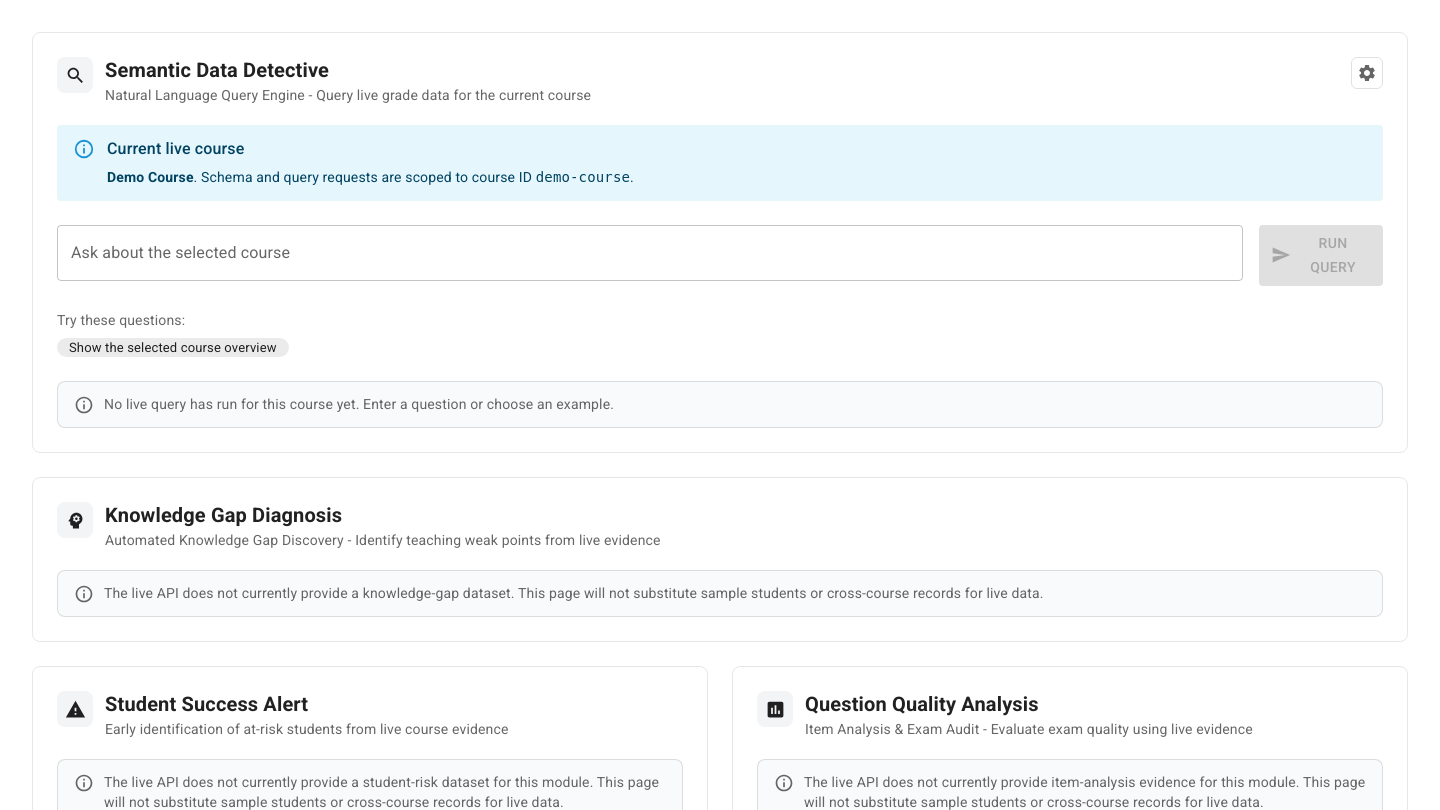
AI Analytics live request states › clears an older live result when a 403 course-scope failure arrives
Type "First query" into the field labelled "Ask about the selected course" at (650, 253), box [57, 225, 1243, 281]
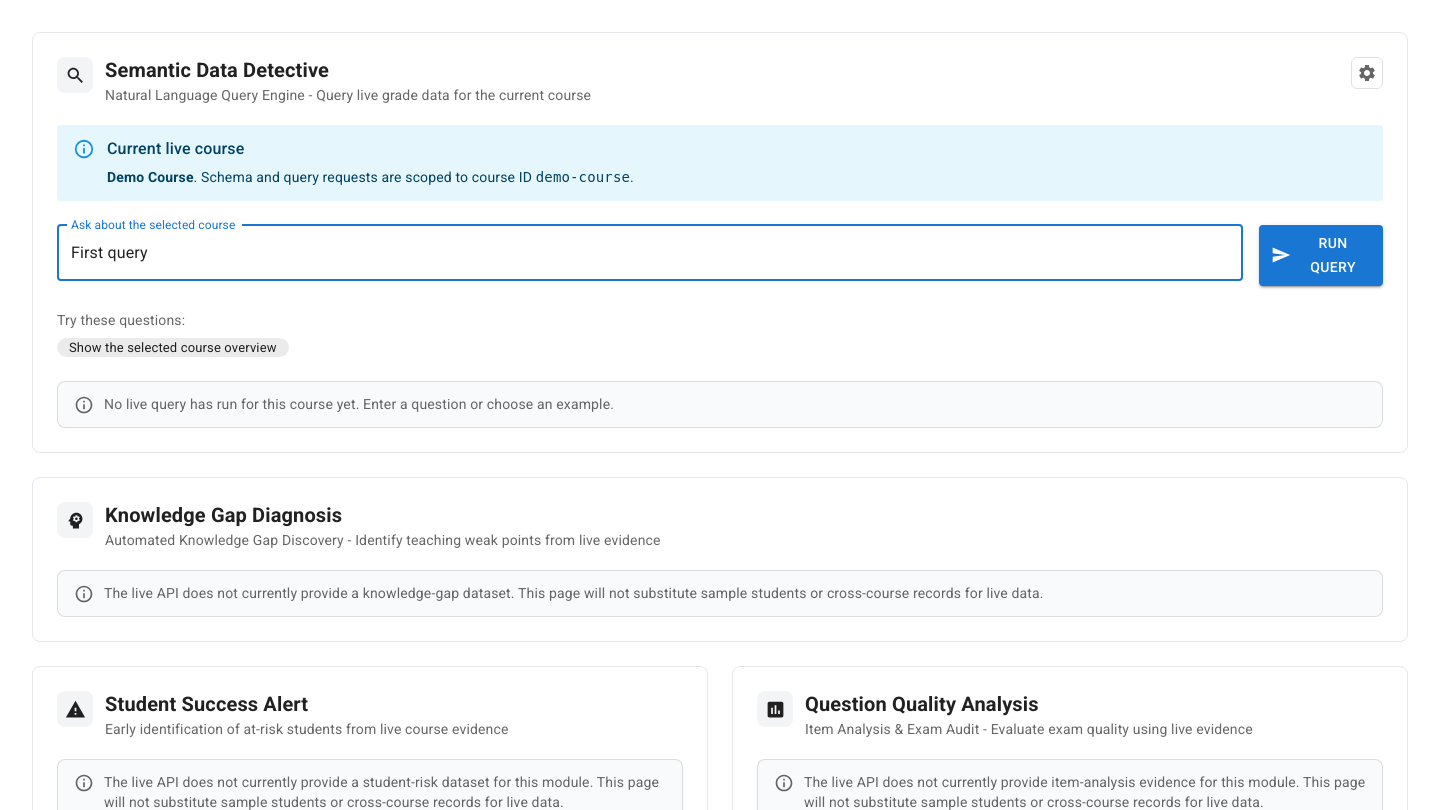
Click the button "Run query" at (1321, 255), box [1259, 225, 1383, 286]
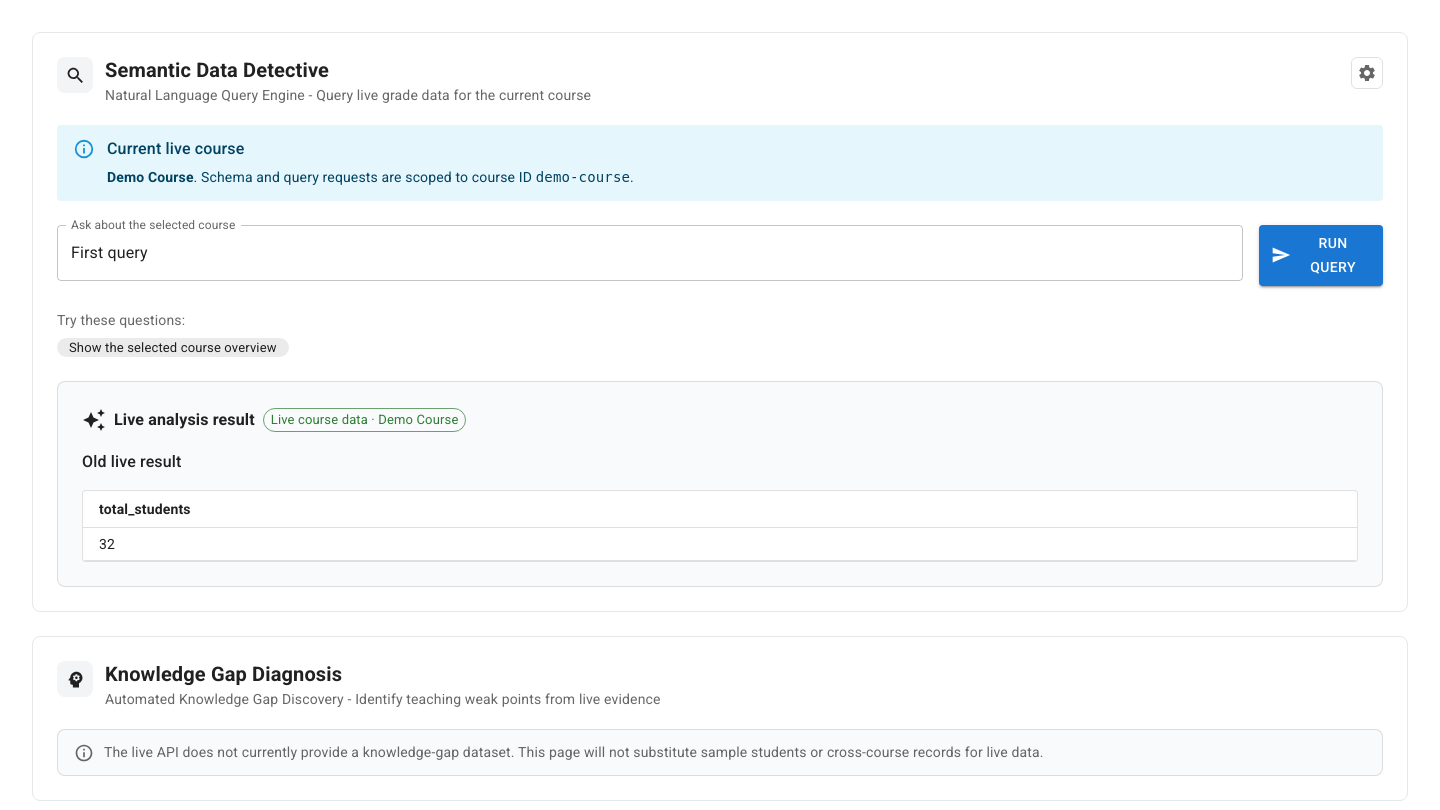
Expected: the text "Old live result" is shown, [82, 452, 182, 471]
Replace the text in the field labelled "Ask about the selected course" with "Forbidden query" at (650, 253), box [57, 225, 1243, 281]
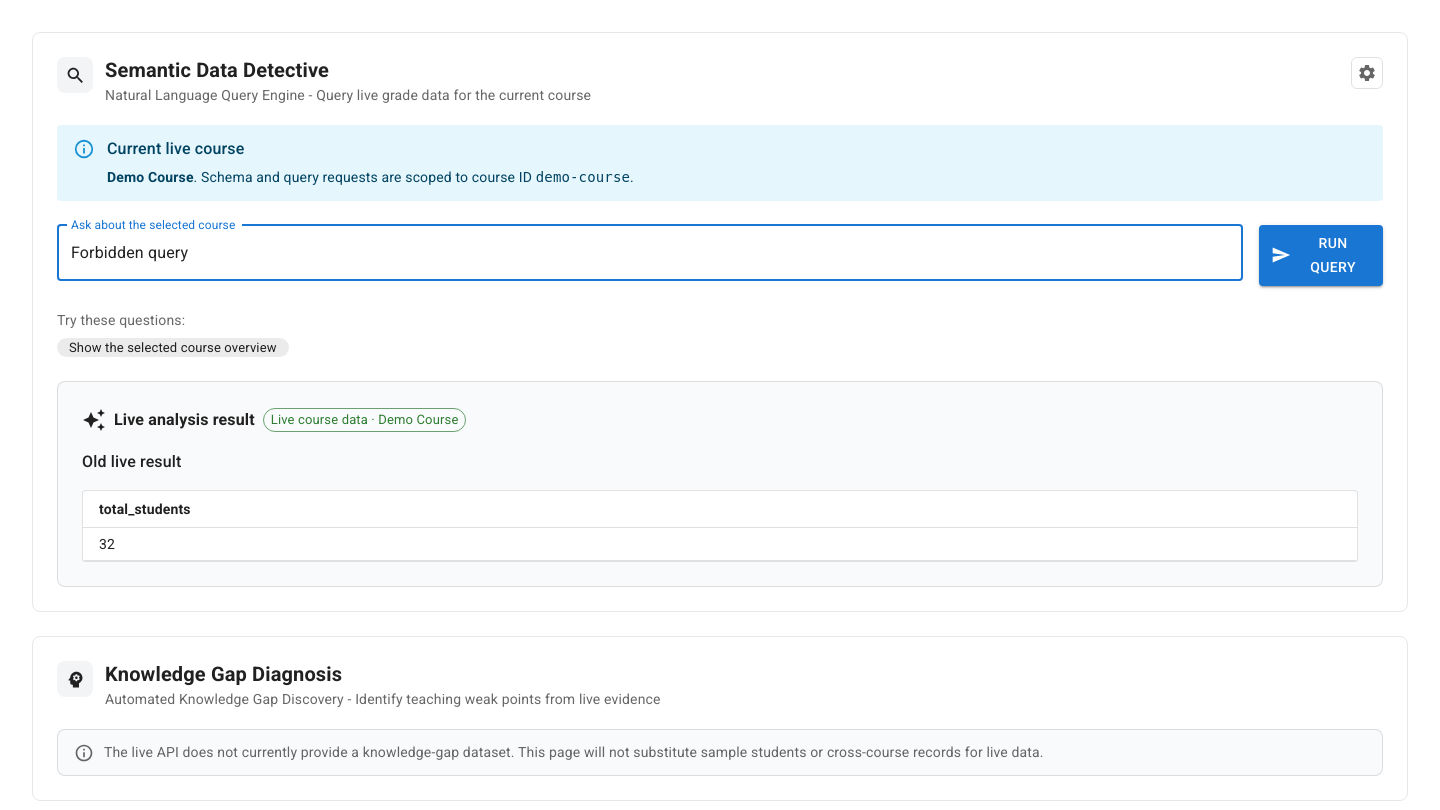
Click the button "Run query" at (1321, 255), box [1259, 225, 1383, 286]
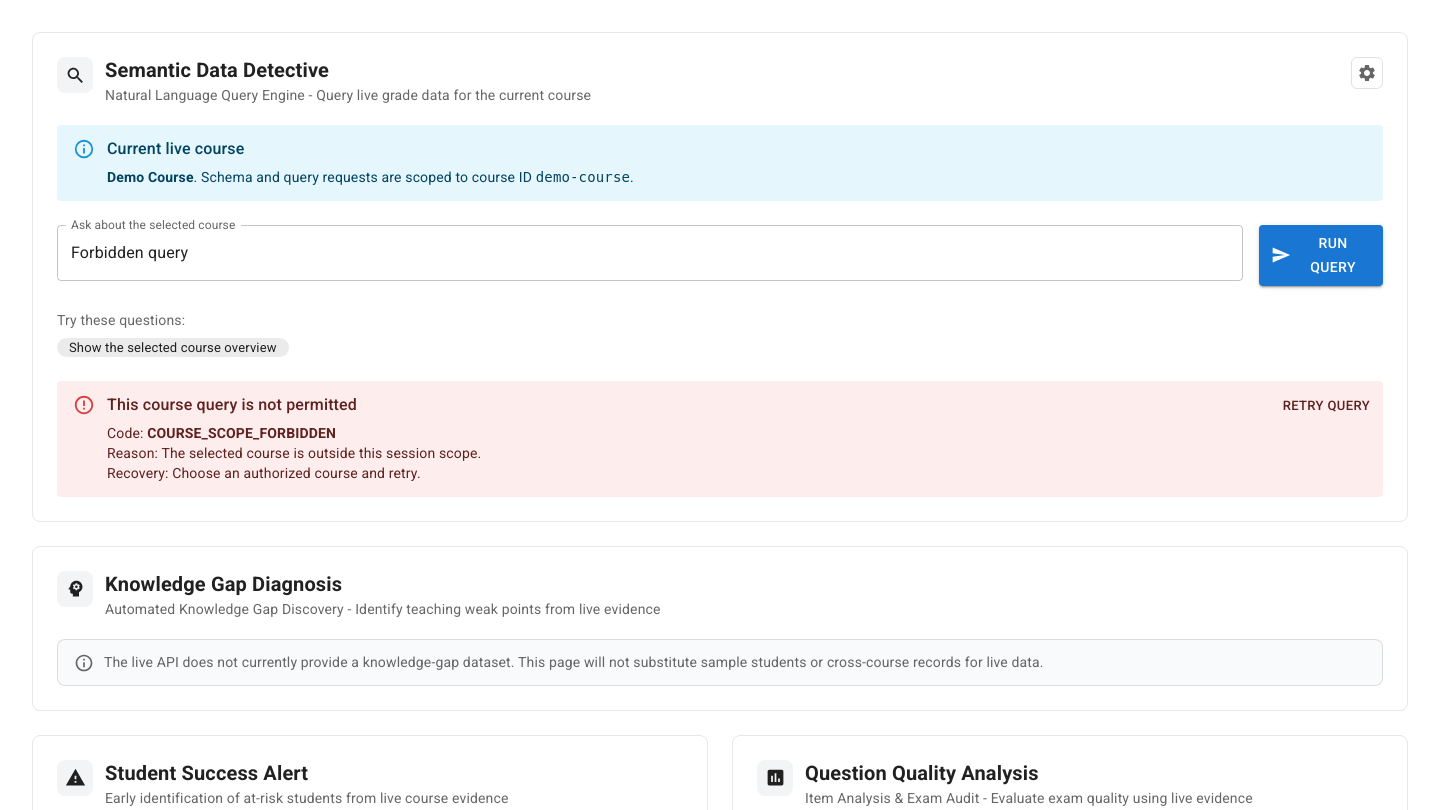
Expected: the text "This course query is not permitted" is shown, [107, 395, 357, 414]
Expected: the text "COURSE_SCOPE_FORBIDDEN" is shown, [147, 425, 336, 441]
Expected: the text "Old live result" is gone
